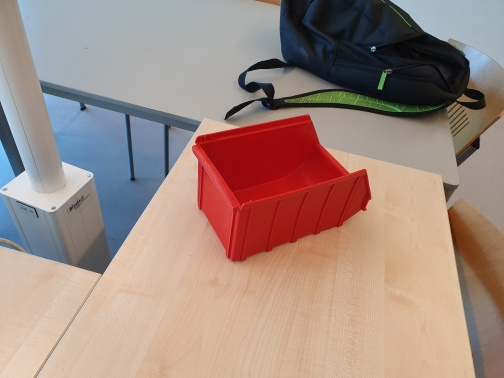tray_left: (228, 167, 374, 264)
